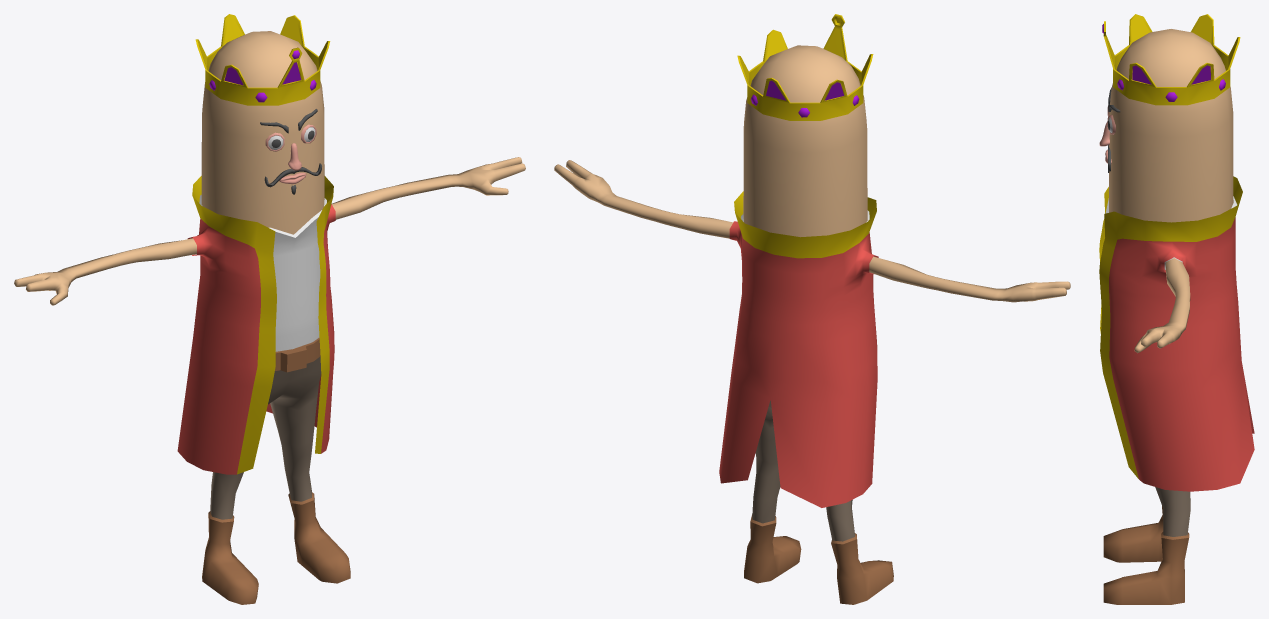
The model's file is King (1).fbx.
3 renders of one model, left to right at view 1: azimuth 30°, elevation 25°; view 2: azimuth 150°, elevation 25°; view 3: azimuth 270°, elevation 25°, orthographic.
Visible parts, largest first — view 1: KingBody; view 2: KingBody; view 3: KingBody.
Part boxes in pixels (box(x1,y1,x2,y2)): KingBody: box(14, 14, 525, 604); KingBody: box(554, 14, 1070, 604); KingBody: box(1099, 14, 1254, 604).
Bounding box in the file's own units: 125 × 128 × 32.44.
